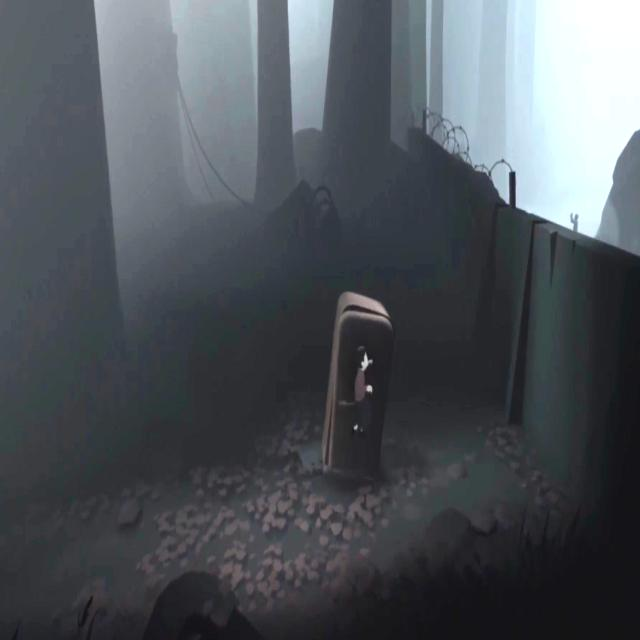boy: (347, 347, 375, 438)
human: (570, 213, 578, 232)
